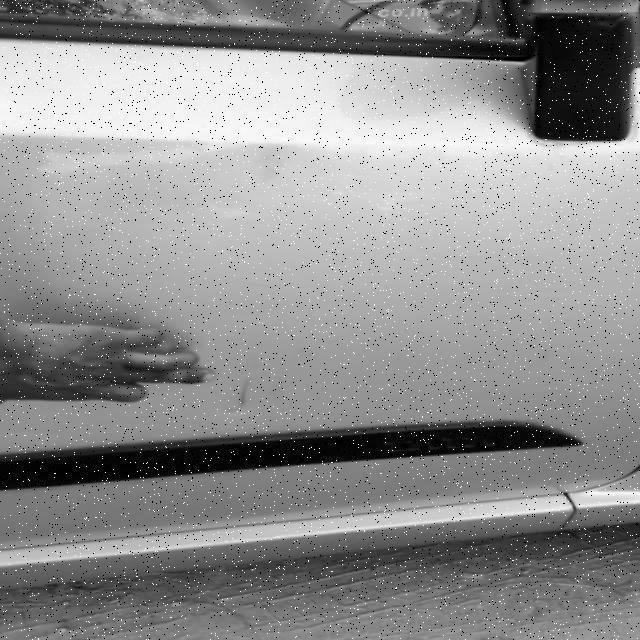doorouter-dent: (1, 36, 640, 505)
